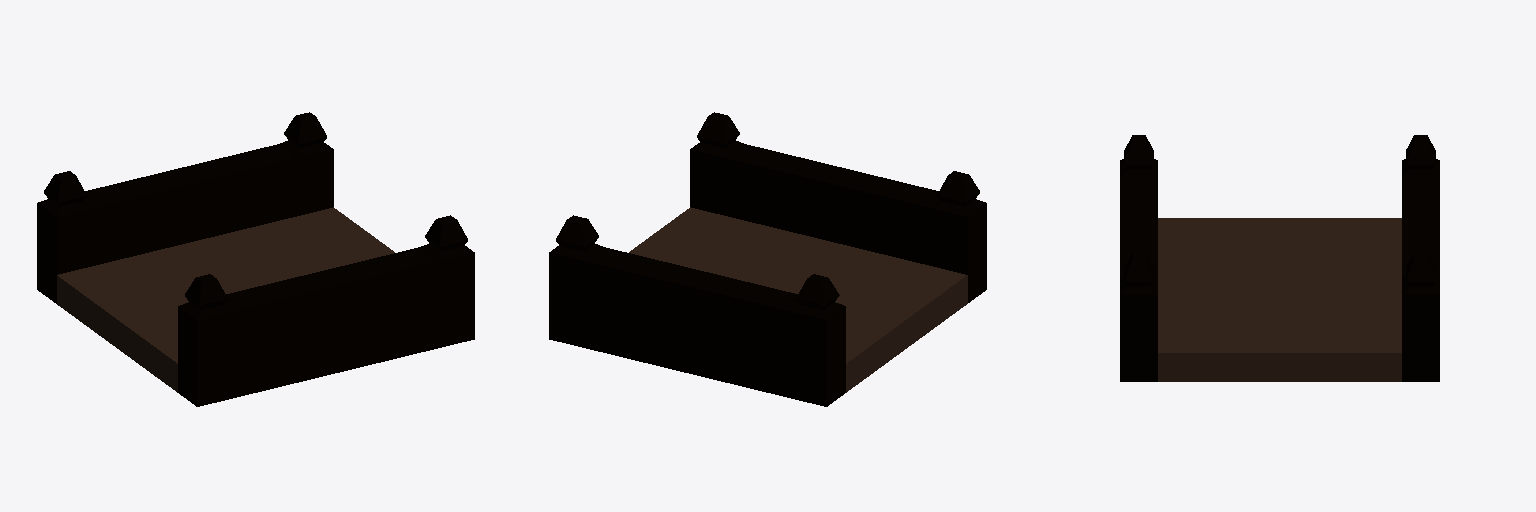
File: Bridge01D.obj
3 views of the same model, side by side, from view 1: azimuth 30°, elevation 25°; view 2: azimuth 150°, elevation 25°; view 3: azimuth 270°, elevation 25° (orthographic).
Parts seen in each view (by area): view 1: Cube.004_Cube.029; view 2: Cube.004_Cube.029; view 3: Cube.004_Cube.029.
Boxes of the visible parts, <box> form: Cube.004_Cube.029: <box>37,112,474,406</box>; Cube.004_Cube.029: <box>549,112,986,406</box>; Cube.004_Cube.029: <box>1120,135,1439,381</box>.
Bounding box in the file's own units: 2 × 0.8098 × 2.